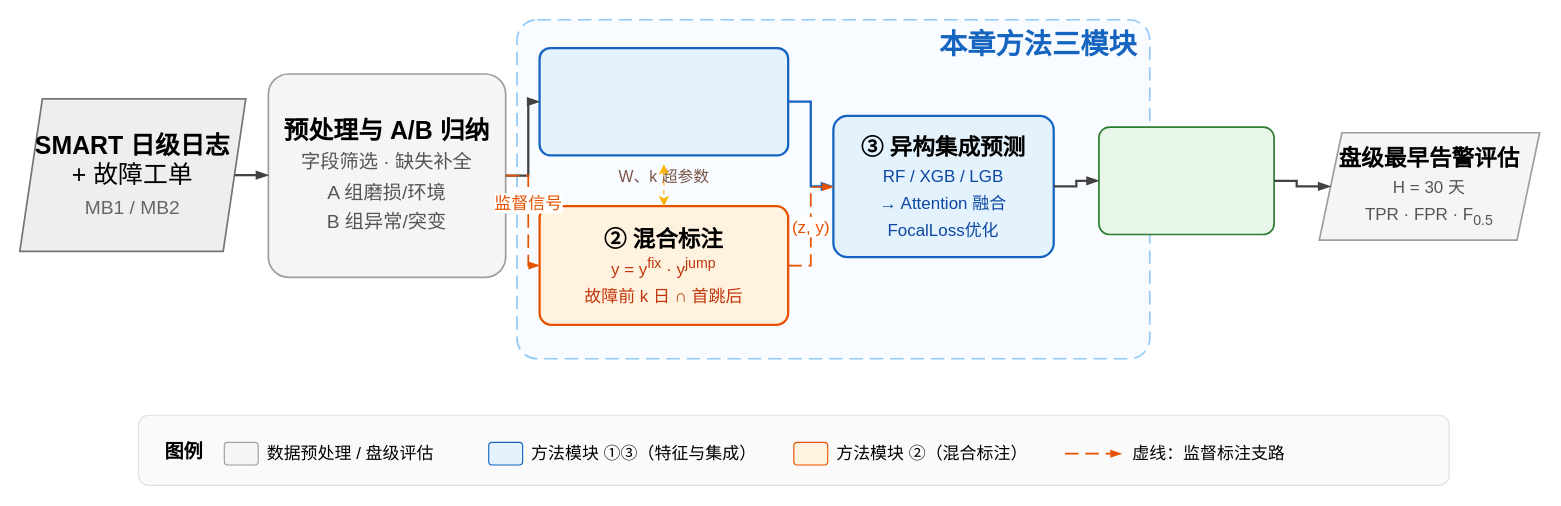
The diagram is 1561 pixels wide and 506 high, and some of its shapes have lost their labels. Here are the shapes that lost their labels. From the top down, the centre of each, then its label:
(663,101): ① 短期时序突变特征 W 阶 Lag(A/B) + r k |Δ|(B)
(1186,180): 样本级概率 ŷ i,t ∈ [0, 1]
